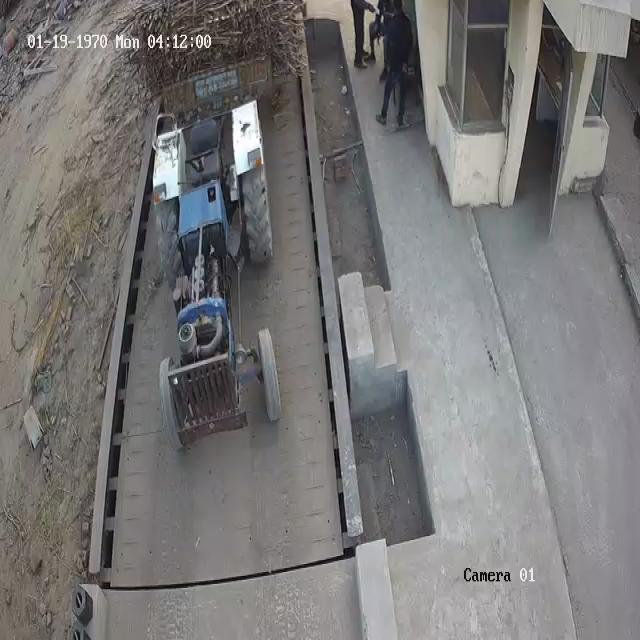Tratores - v5 YOLO V8L 2024-11-13: (146, 103, 286, 440)
